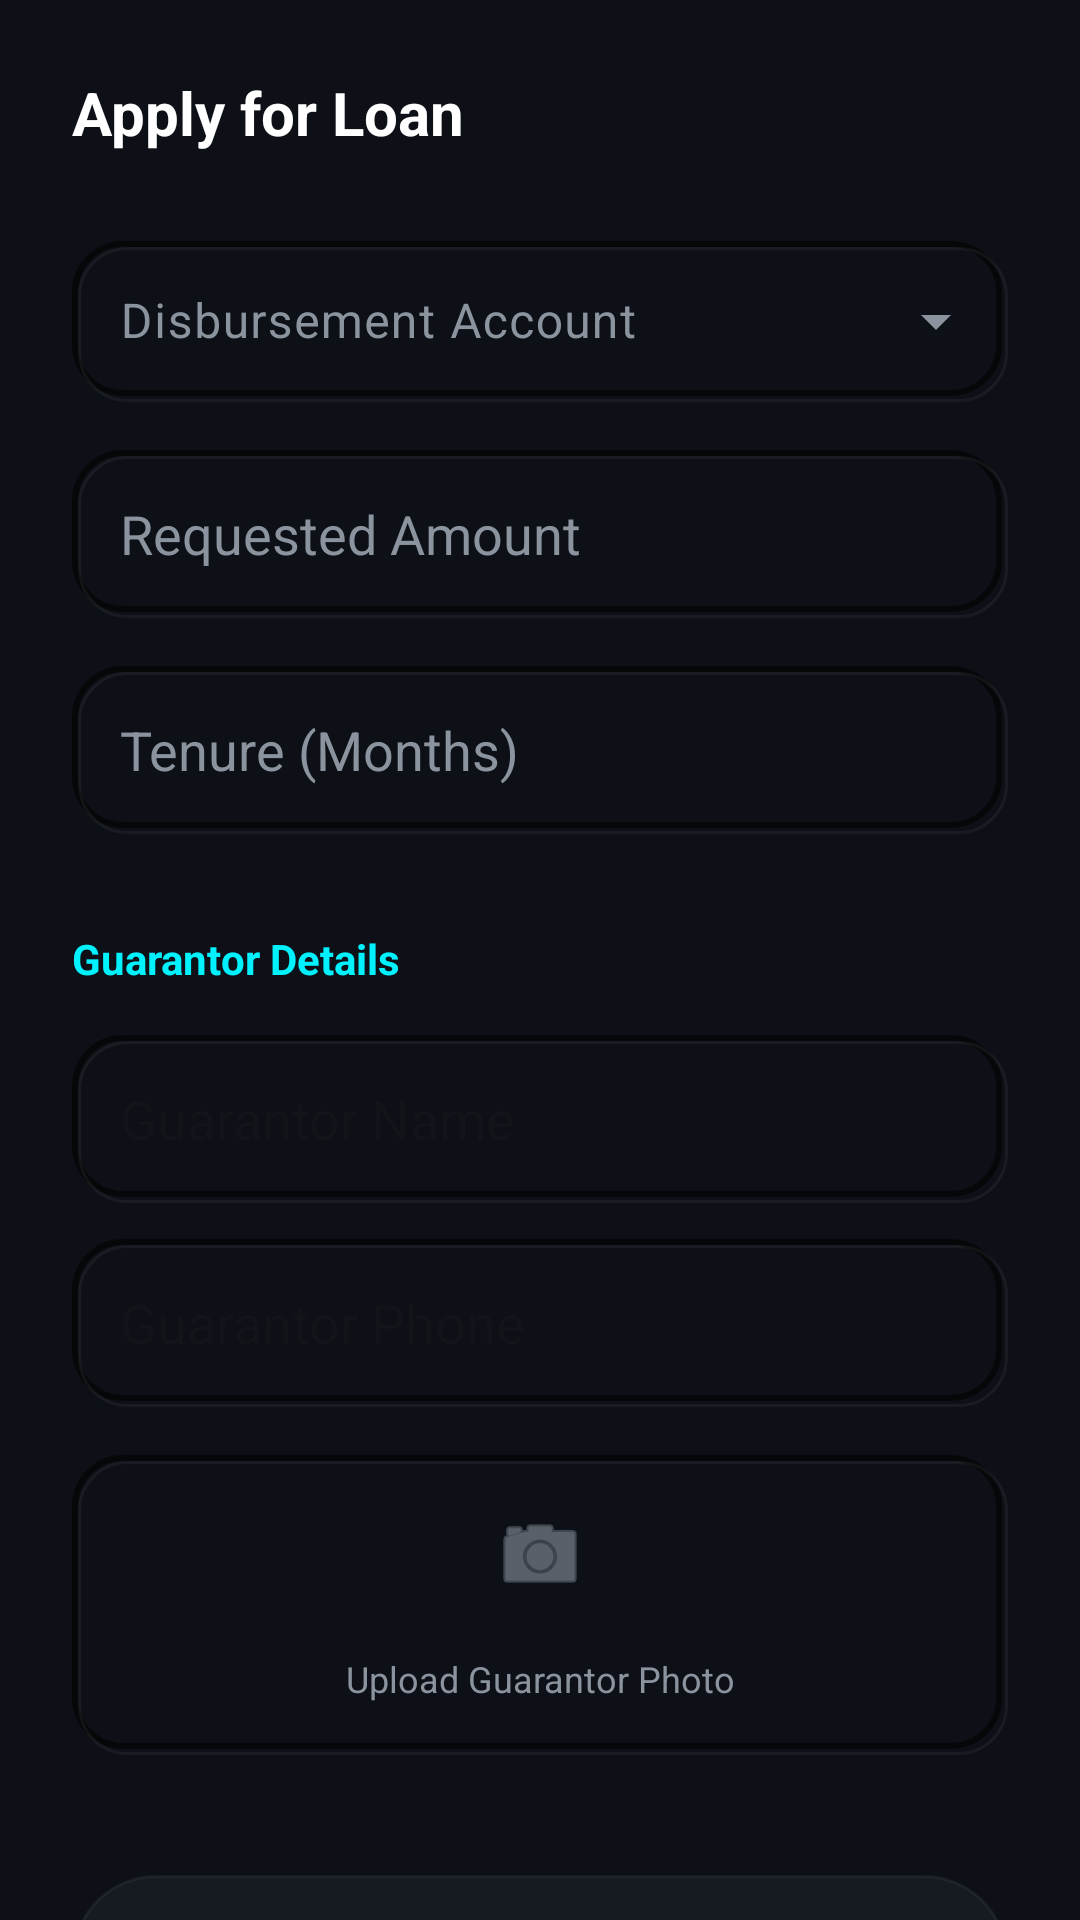

Point at icon controls on the screen. Image size 1080w x 1920h, points as (x=x, y=y).
camera: (x=540, y=1553)
